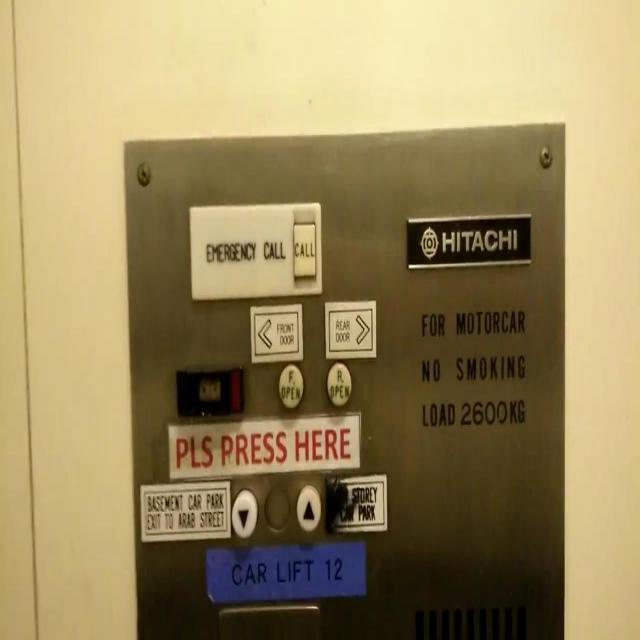down: (295, 482, 321, 532)
text_CALL CANCEL: (291, 218, 317, 282)
text_open door: (276, 362, 304, 411), (325, 359, 352, 407)
up: (230, 486, 258, 538)
